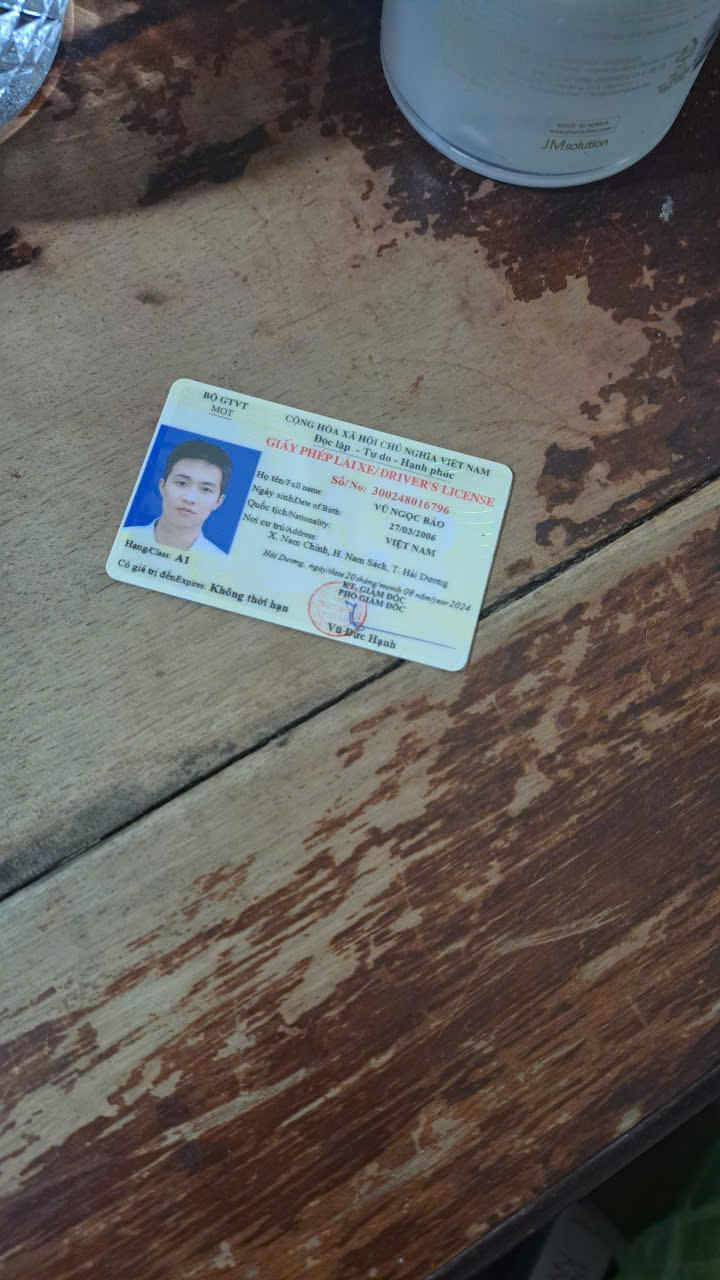gplx: (100, 375, 518, 677)
